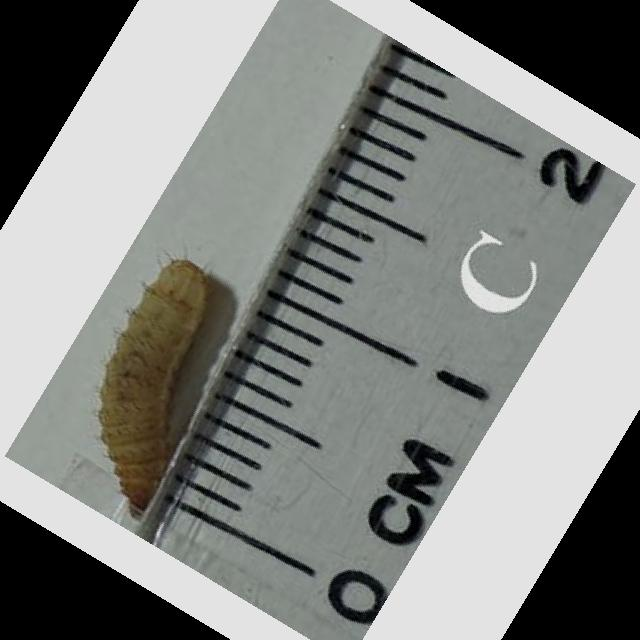Maggot: (95, 254, 215, 515)
